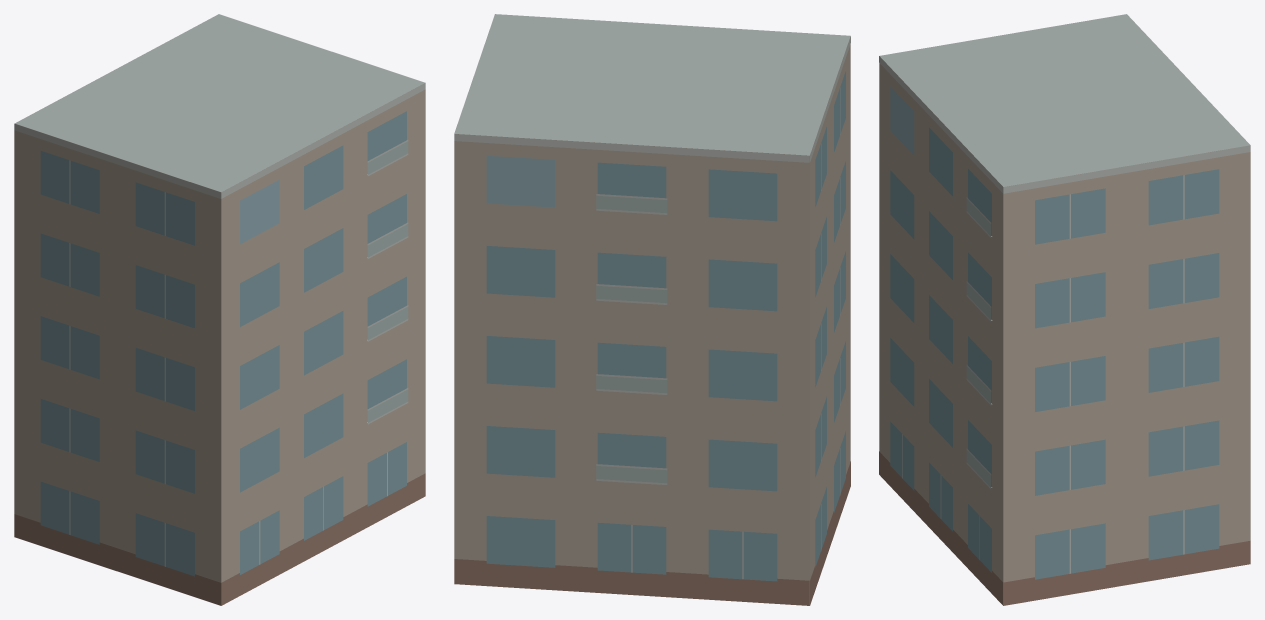
Rendered from residential-80787f0a-0cc3-4c1c-8dd9-ba291fc251ad.glb.
3 views of the same model, side by side, from view 1: azimuth 30°, elevation 25°; view 2: azimuth 150°, elevation 25°; view 3: azimuth 270°, elevation 25° (orthographic). The views are drawn at different scales.
Visible parts, largest first — view 1: residential-80787f0a-0cc3-4c1c-8dd9-ba291fc251ad.tmp; view 2: residential-80787f0a-0cc3-4c1c-8dd9-ba291fc251ad.tmp; view 3: residential-80787f0a-0cc3-4c1c-8dd9-ba291fc251ad.tmp.
Part boxes in pixels (<box>): residential-80787f0a-0cc3-4c1c-8dd9-ba291fc251ad.tmp: <box>14,14,425,605</box>; residential-80787f0a-0cc3-4c1c-8dd9-ba291fc251ad.tmp: <box>454,14,850,605</box>; residential-80787f0a-0cc3-4c1c-8dd9-ba291fc251ad.tmp: <box>879,14,1250,605</box>.
Size of the model in its own units: 13.53 by 15.25 by 12.27.
